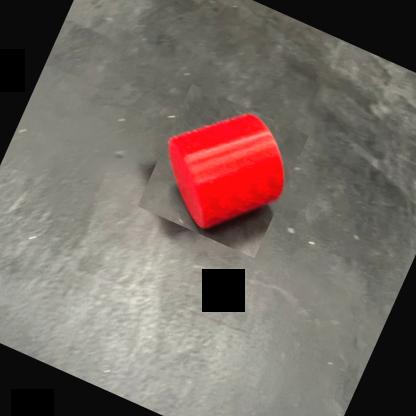red cylinder: (137, 83, 309, 258)
